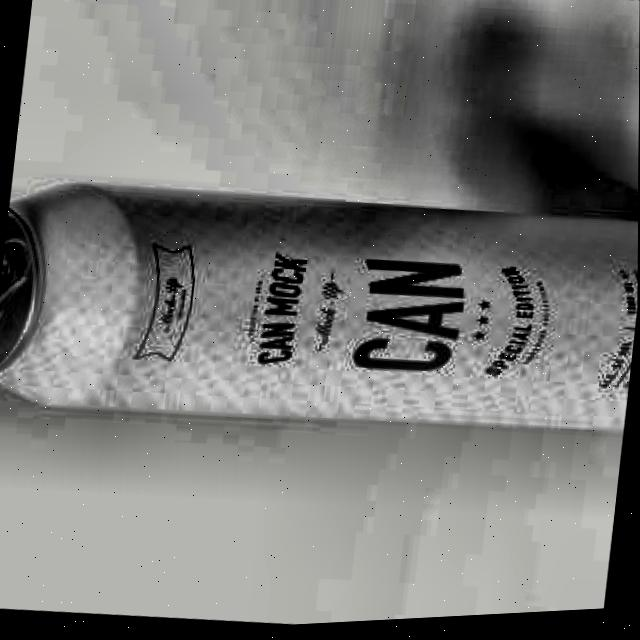metal: (0, 123, 639, 484)
